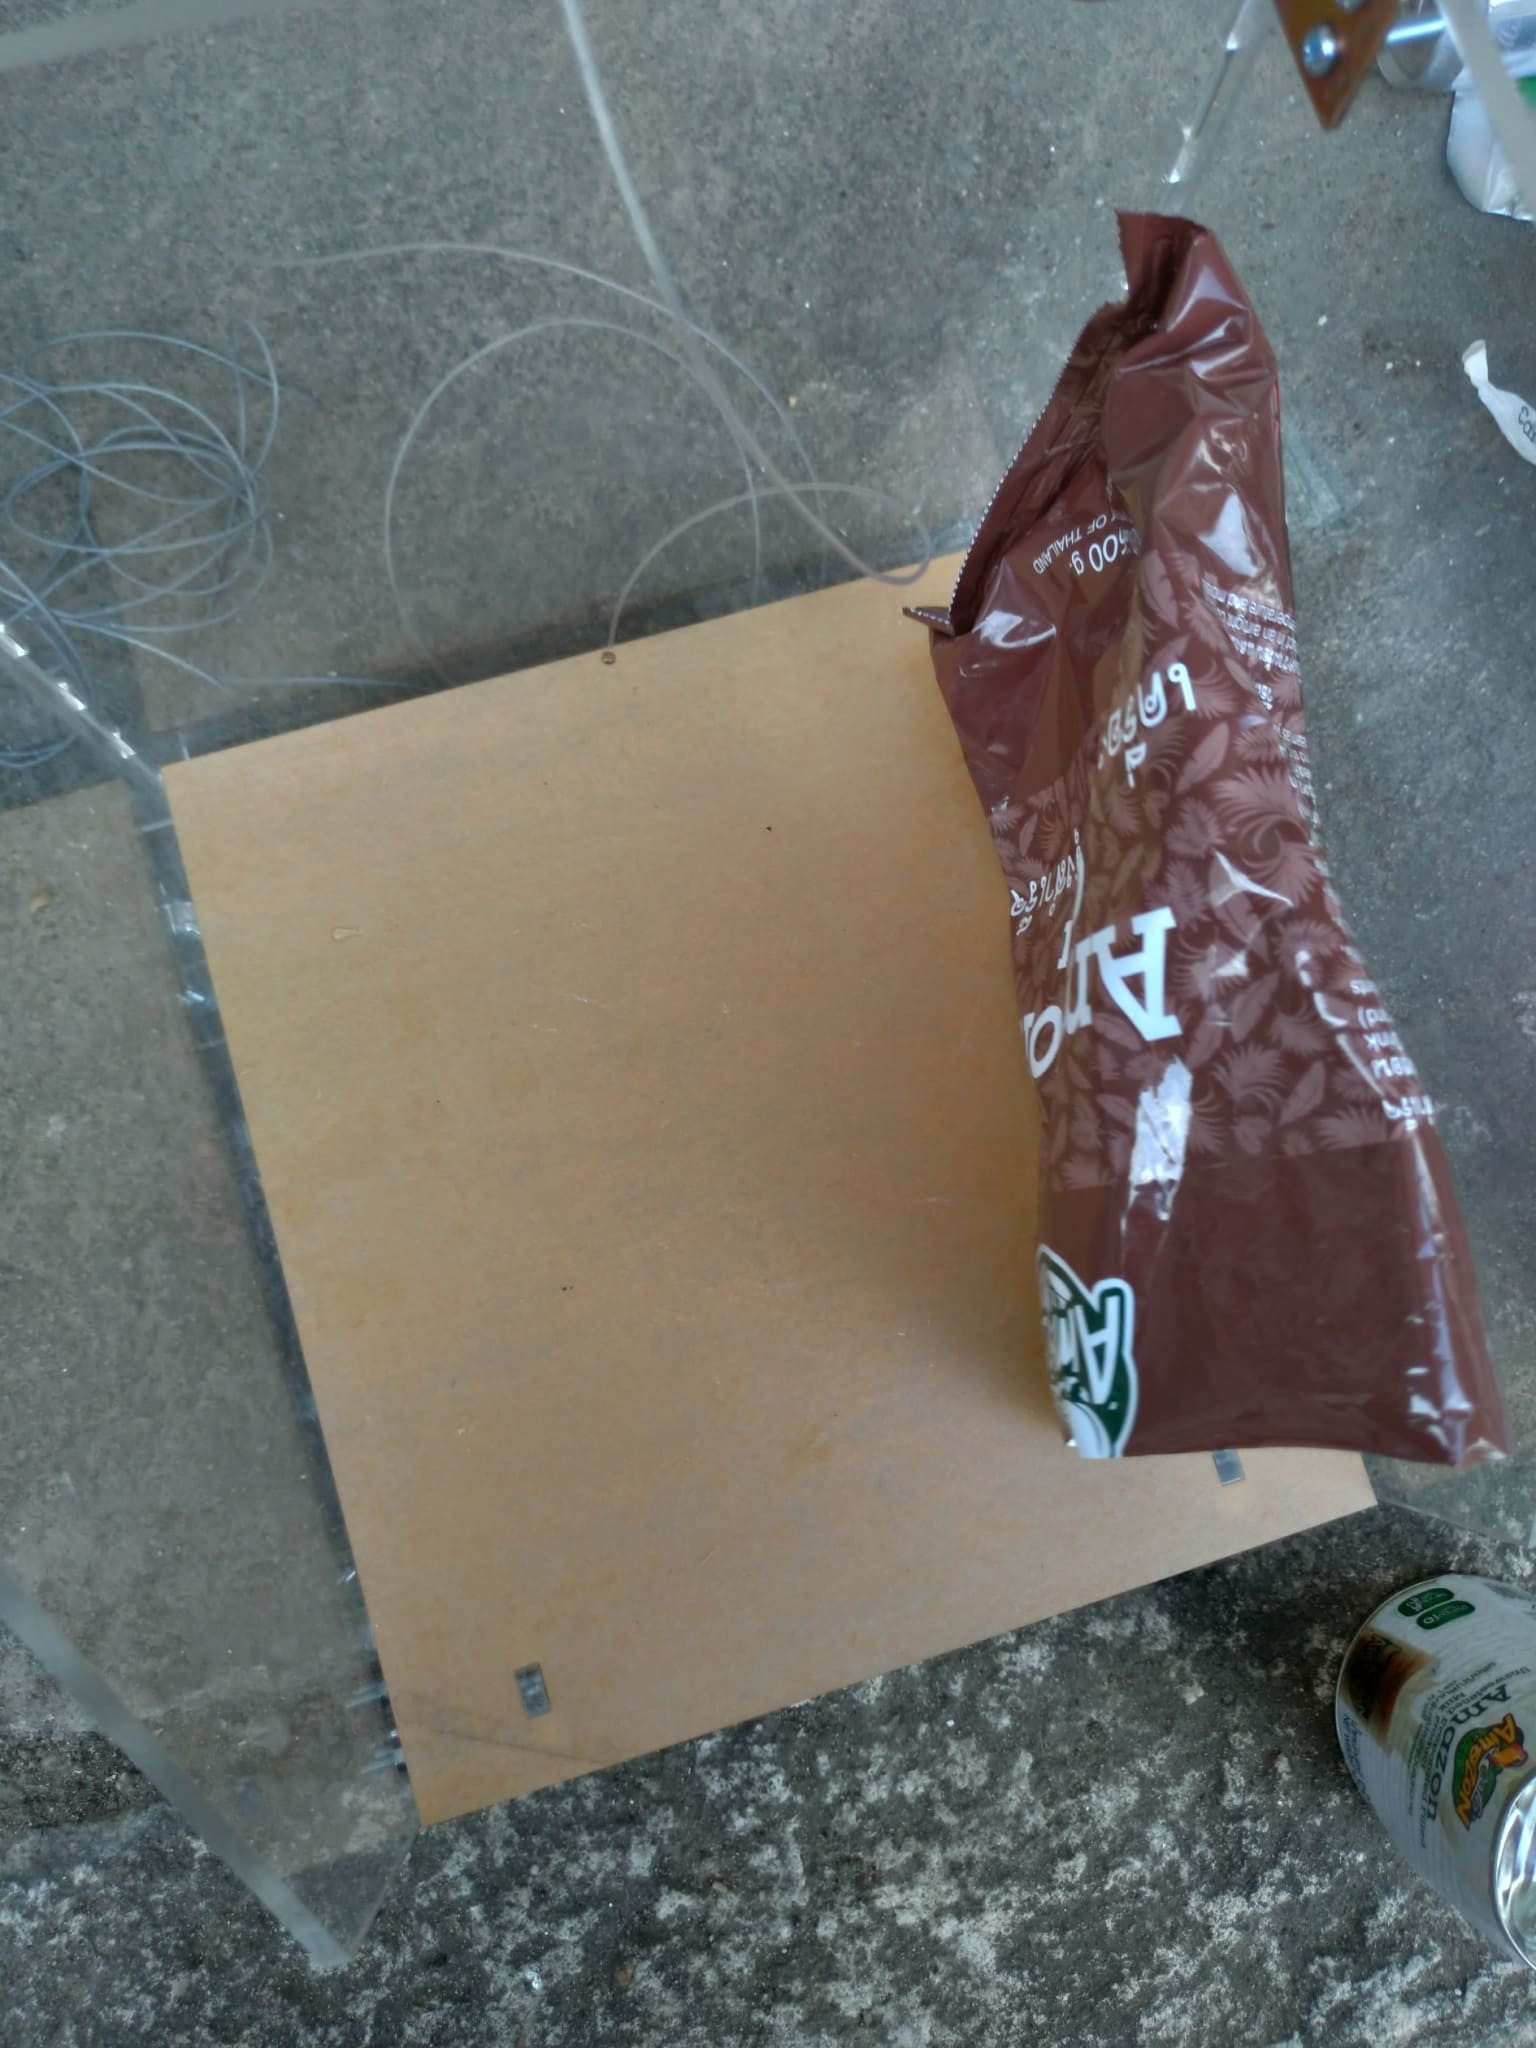AlCan: (1325, 1564, 1536, 1948)
Others: (907, 205, 1504, 1484)
